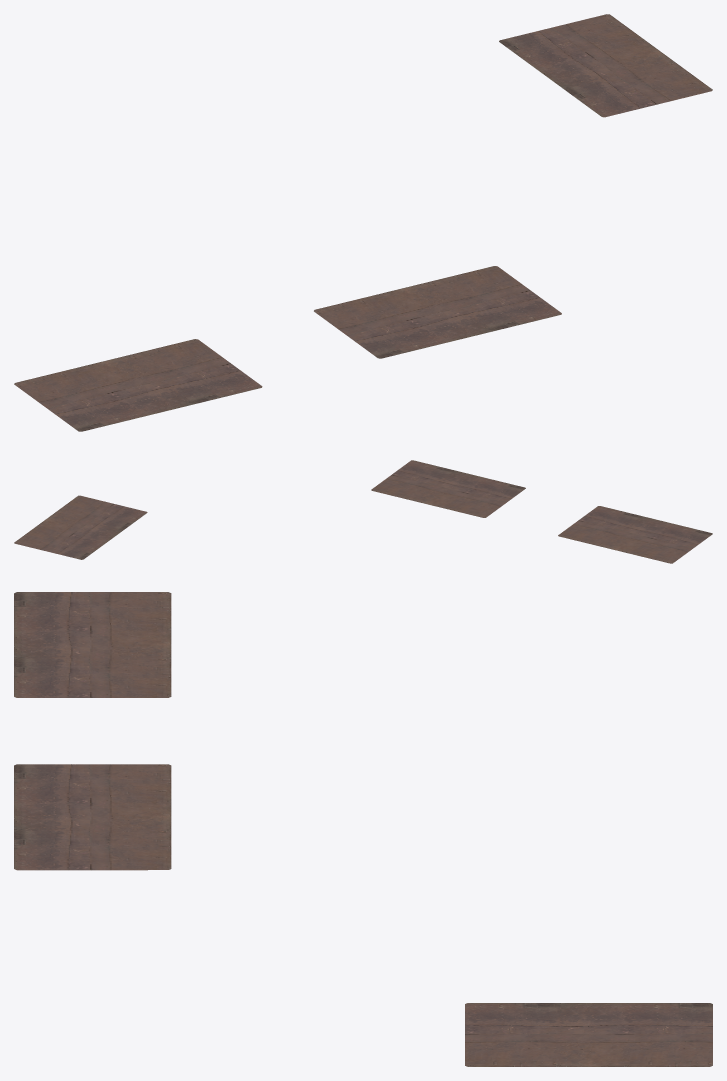
File: SM_Prison_WireMesh.fbx
3 views of the same model, one above another, from view 1: azimuth 30°, elevation 25°; view 2: azimuth 150°, elevation 25°; view 3: azimuth 270°, elevation 25° (orthographic). The views are drawn at different scales.
Parts seen in each view (by area): view 1: SM_Prison_WireMesh; view 2: SM_Prison_WireMesh; view 3: SM_Prison_WireMesh.
Boxes of the visible parts, x1=… form: SM_Prison_WireMesh: x1=14, y1=14, x2=712, y2=431; SM_Prison_WireMesh: x1=14, y1=460, x2=712, y2=563; SM_Prison_WireMesh: x1=14, y1=592, x2=712, y2=1066.
Size of the model in its own units: 2970 by 0.1079 by 1847.
